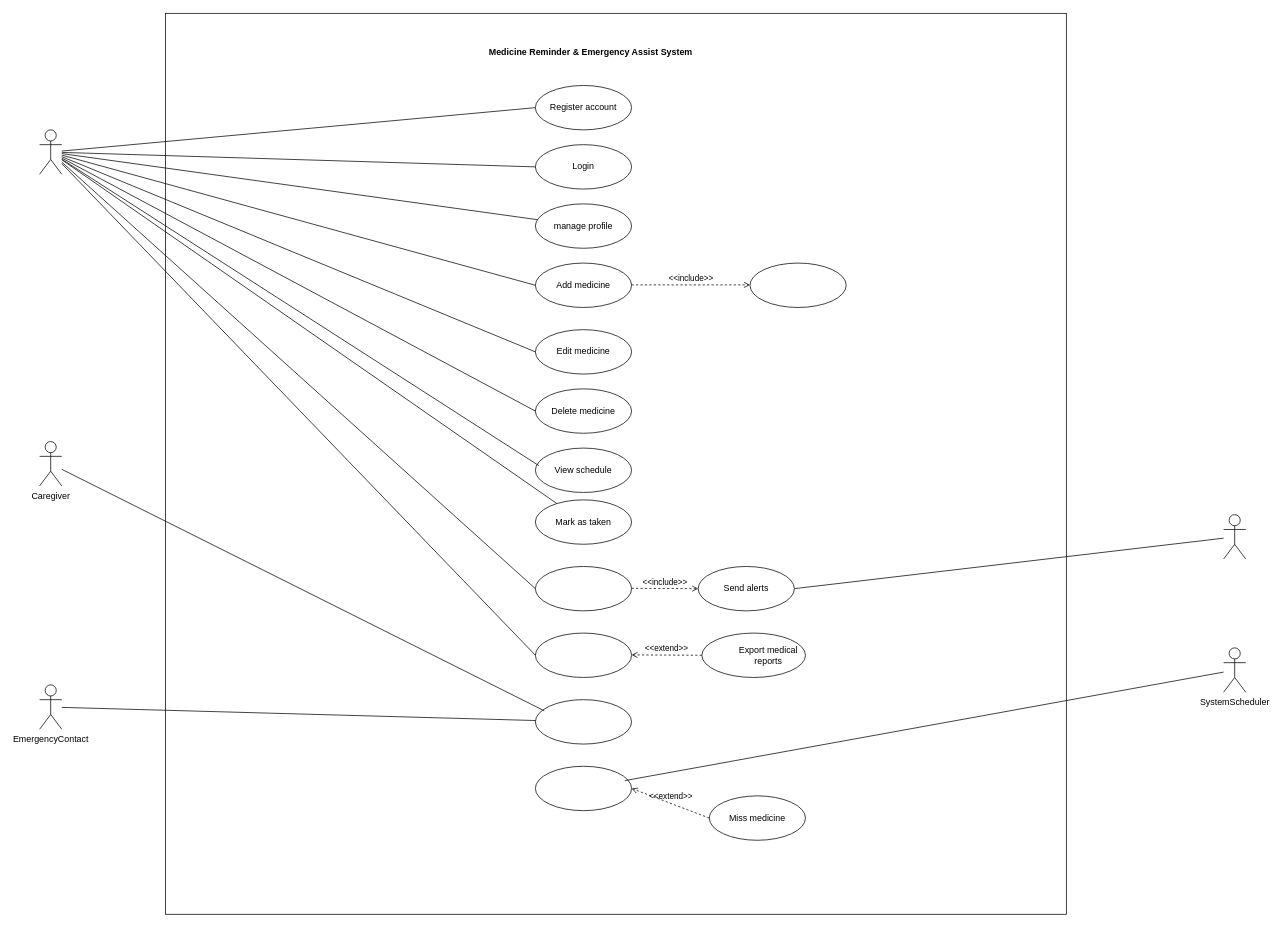
Image size: 1284x927. Some labels were removed from this diagram. Here are the shapes that lost their labels. From the top down, the centre of each, then its label:
(50,151): User
(797,284): Validate medicine input
(1234,536): NotificationService
(583,588): Press SOS
(583,654): View reports
(583,721): Recieve emergency alert
(583,788): Recieve reminder
